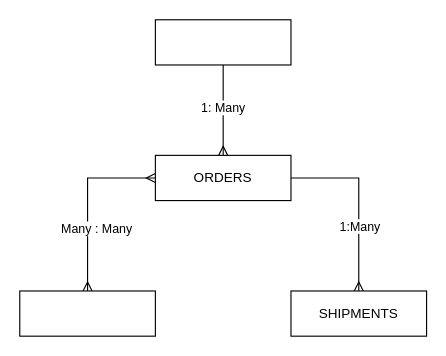
The diagram is 446 pixels wide and 356 high, and some of its shapes have lost their labels. Here are the shapes that lost their labels. From the top down, the centre of each, then its label:
At pixel 222 42: "CUSTOMER".
At pixel 87 313: "PRODUCTS".
